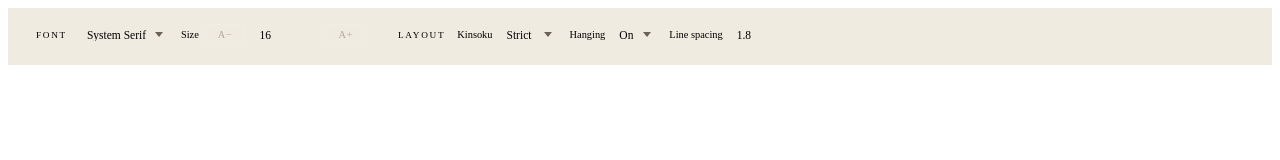
Test: MejiroSettingsPanel (React) — number fields commit on change › clamps an out-of-range value once, on commit, and shows the clamped value
Replace the text in the number field labelled "Size" with "2" at (285, 34), box [251,24,319,44]
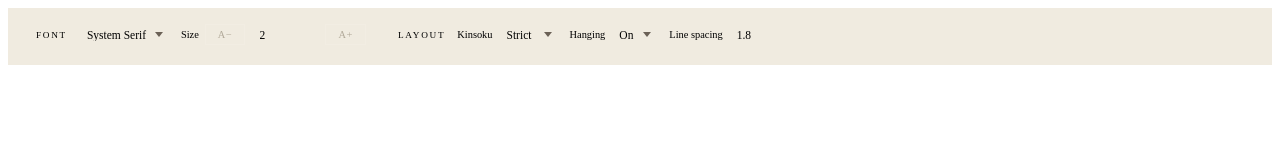
Replace the text in the number field labelled "Size" with "20" at (285, 34), box [251,24,319,44]
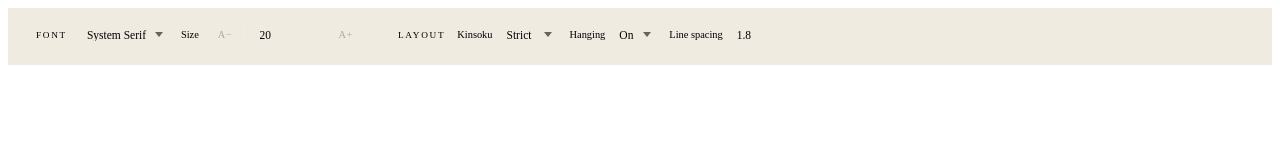
Replace the text in the number field labelled "Size" with "200" at (285, 34), box [251,24,319,44]
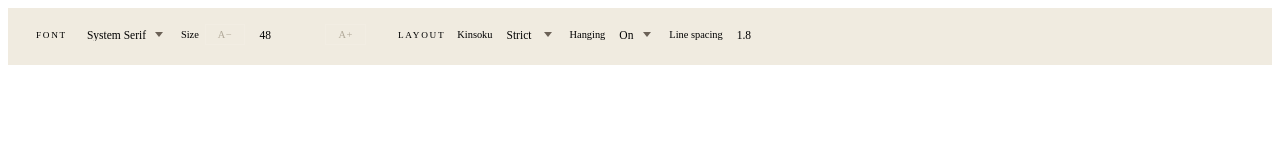
Expected: the number field labelled "Size" holds "48", [251,24,319,44]
